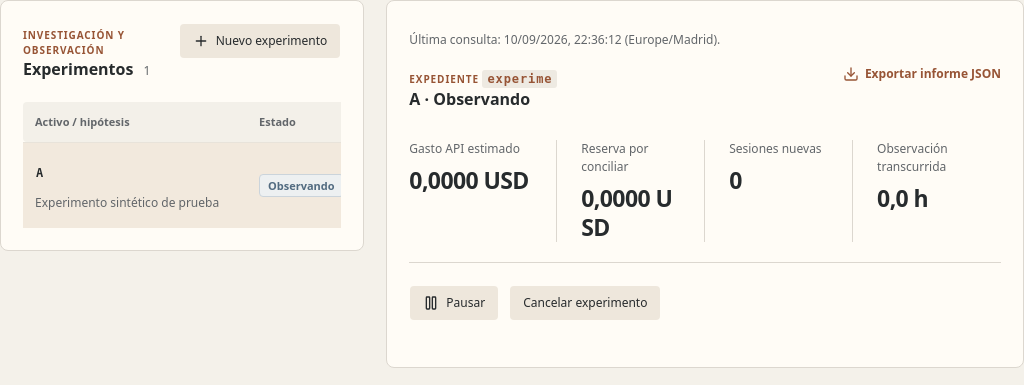
it: Controles del expediente de experimento › envía cancel y muestra el estado leído del motor
Click the button "Cancelar experimento". click: (585, 303)
box: [509,285,662,321]
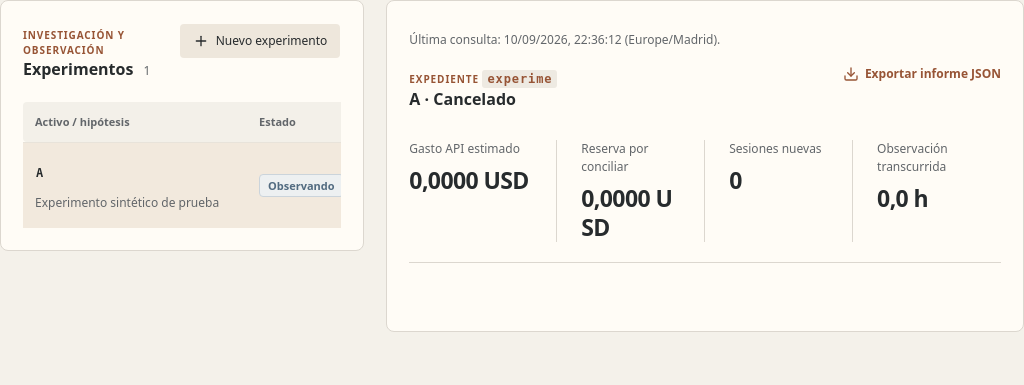
Result: the heading "A · Cancelado" is shown at [409,88,516,110]
